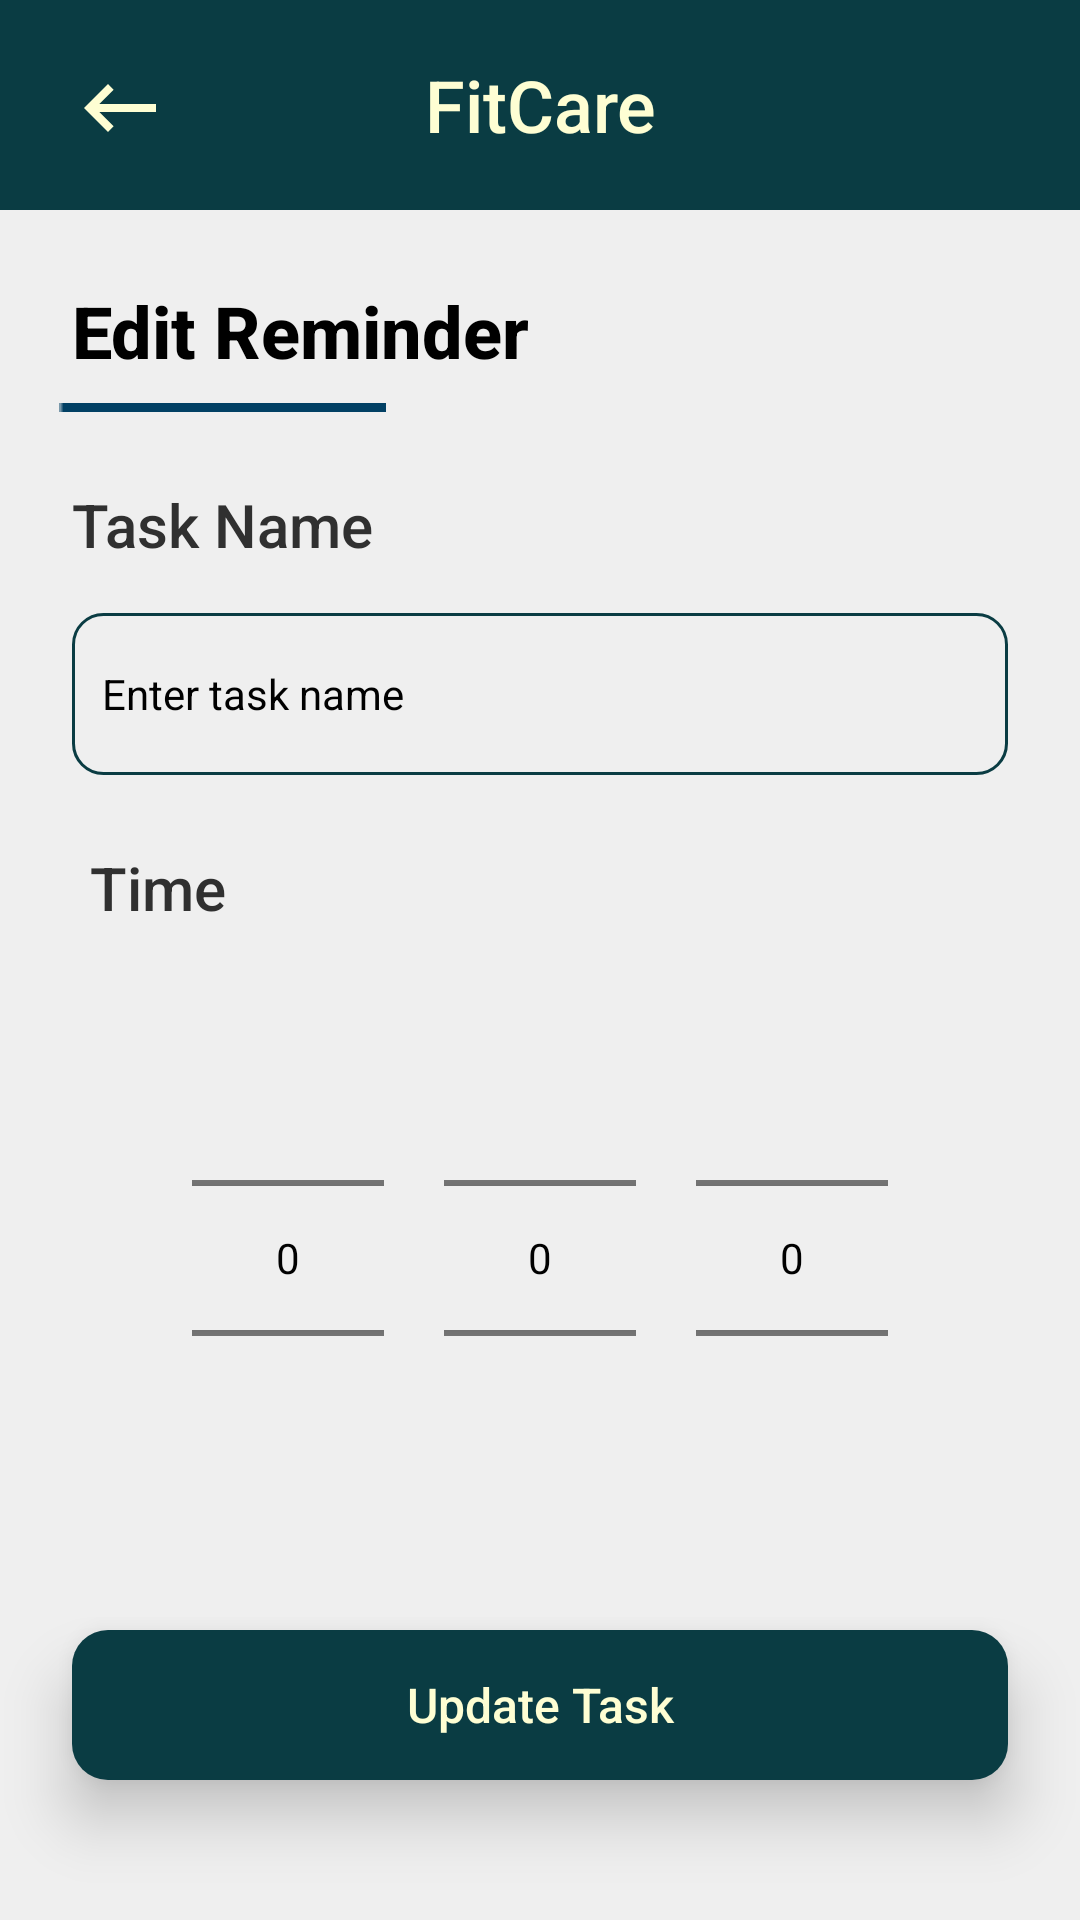

Locate icon controls on the screen. Image size 1080 × 1920, boxes as (x1, y1, x2, y2).
back: (84, 84, 156, 132)
